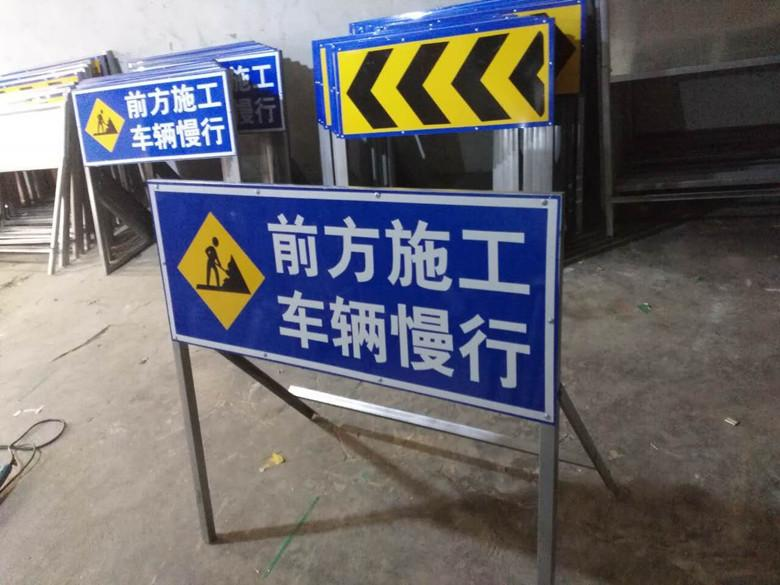sign: (147, 179, 568, 492), (75, 92, 229, 158)
